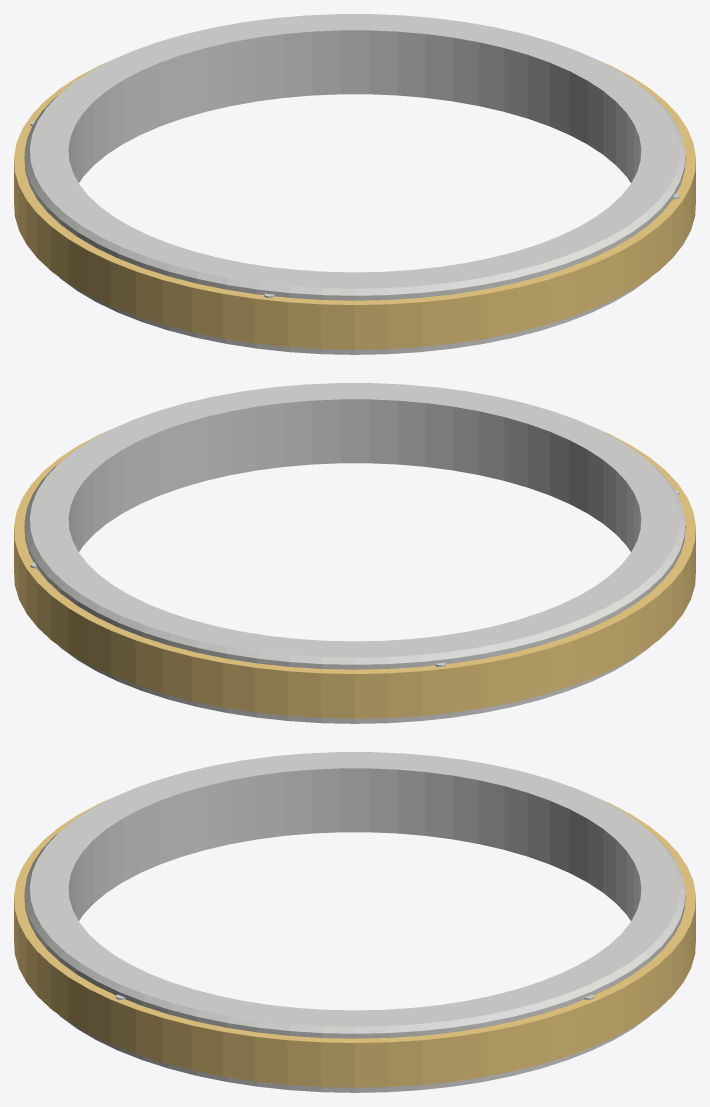
File: ax_util_30_sunshade_l.glb
The picture shows the model from 3 angles, top to bottom: view 1: azimuth 30°, elevation 25°; view 2: azimuth 150°, elevation 25°; view 3: azimuth 270°, elevation 25°; orthographic projection.
Visible parts, largest first — view 1: canister_ring, membrane_stowed; view 2: canister_ring, membrane_stowed; view 3: canister_ring, membrane_stowed.
Part boxes in pixels (<box>): canister_ring: <box>24,14,685,354</box>; membrane_stowed: <box>14,61,695,349</box>; canister_ring: <box>24,383,685,723</box>; membrane_stowed: <box>14,430,695,718</box>; canister_ring: <box>24,752,685,1092</box>; membrane_stowed: <box>14,799,695,1087</box>.
Bounding box in the file's own units: 3.87 × 0.4 × 3.87.
